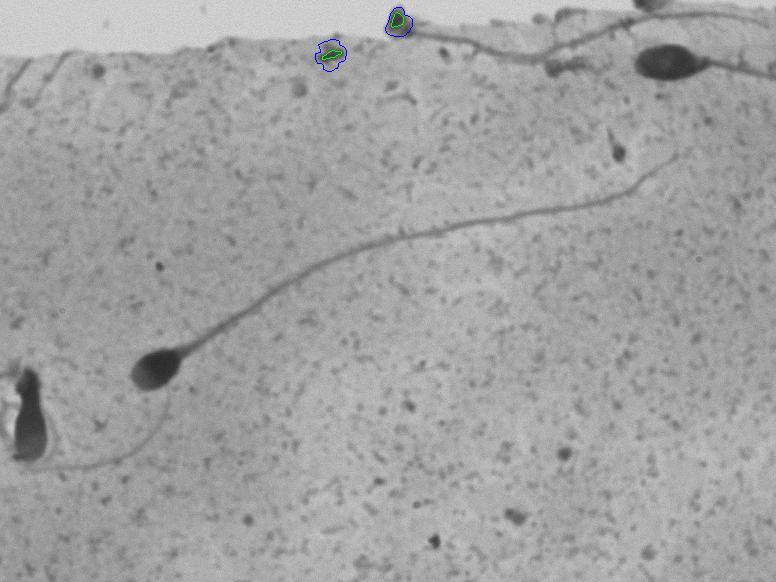Normal: (125, 140, 689, 424)
